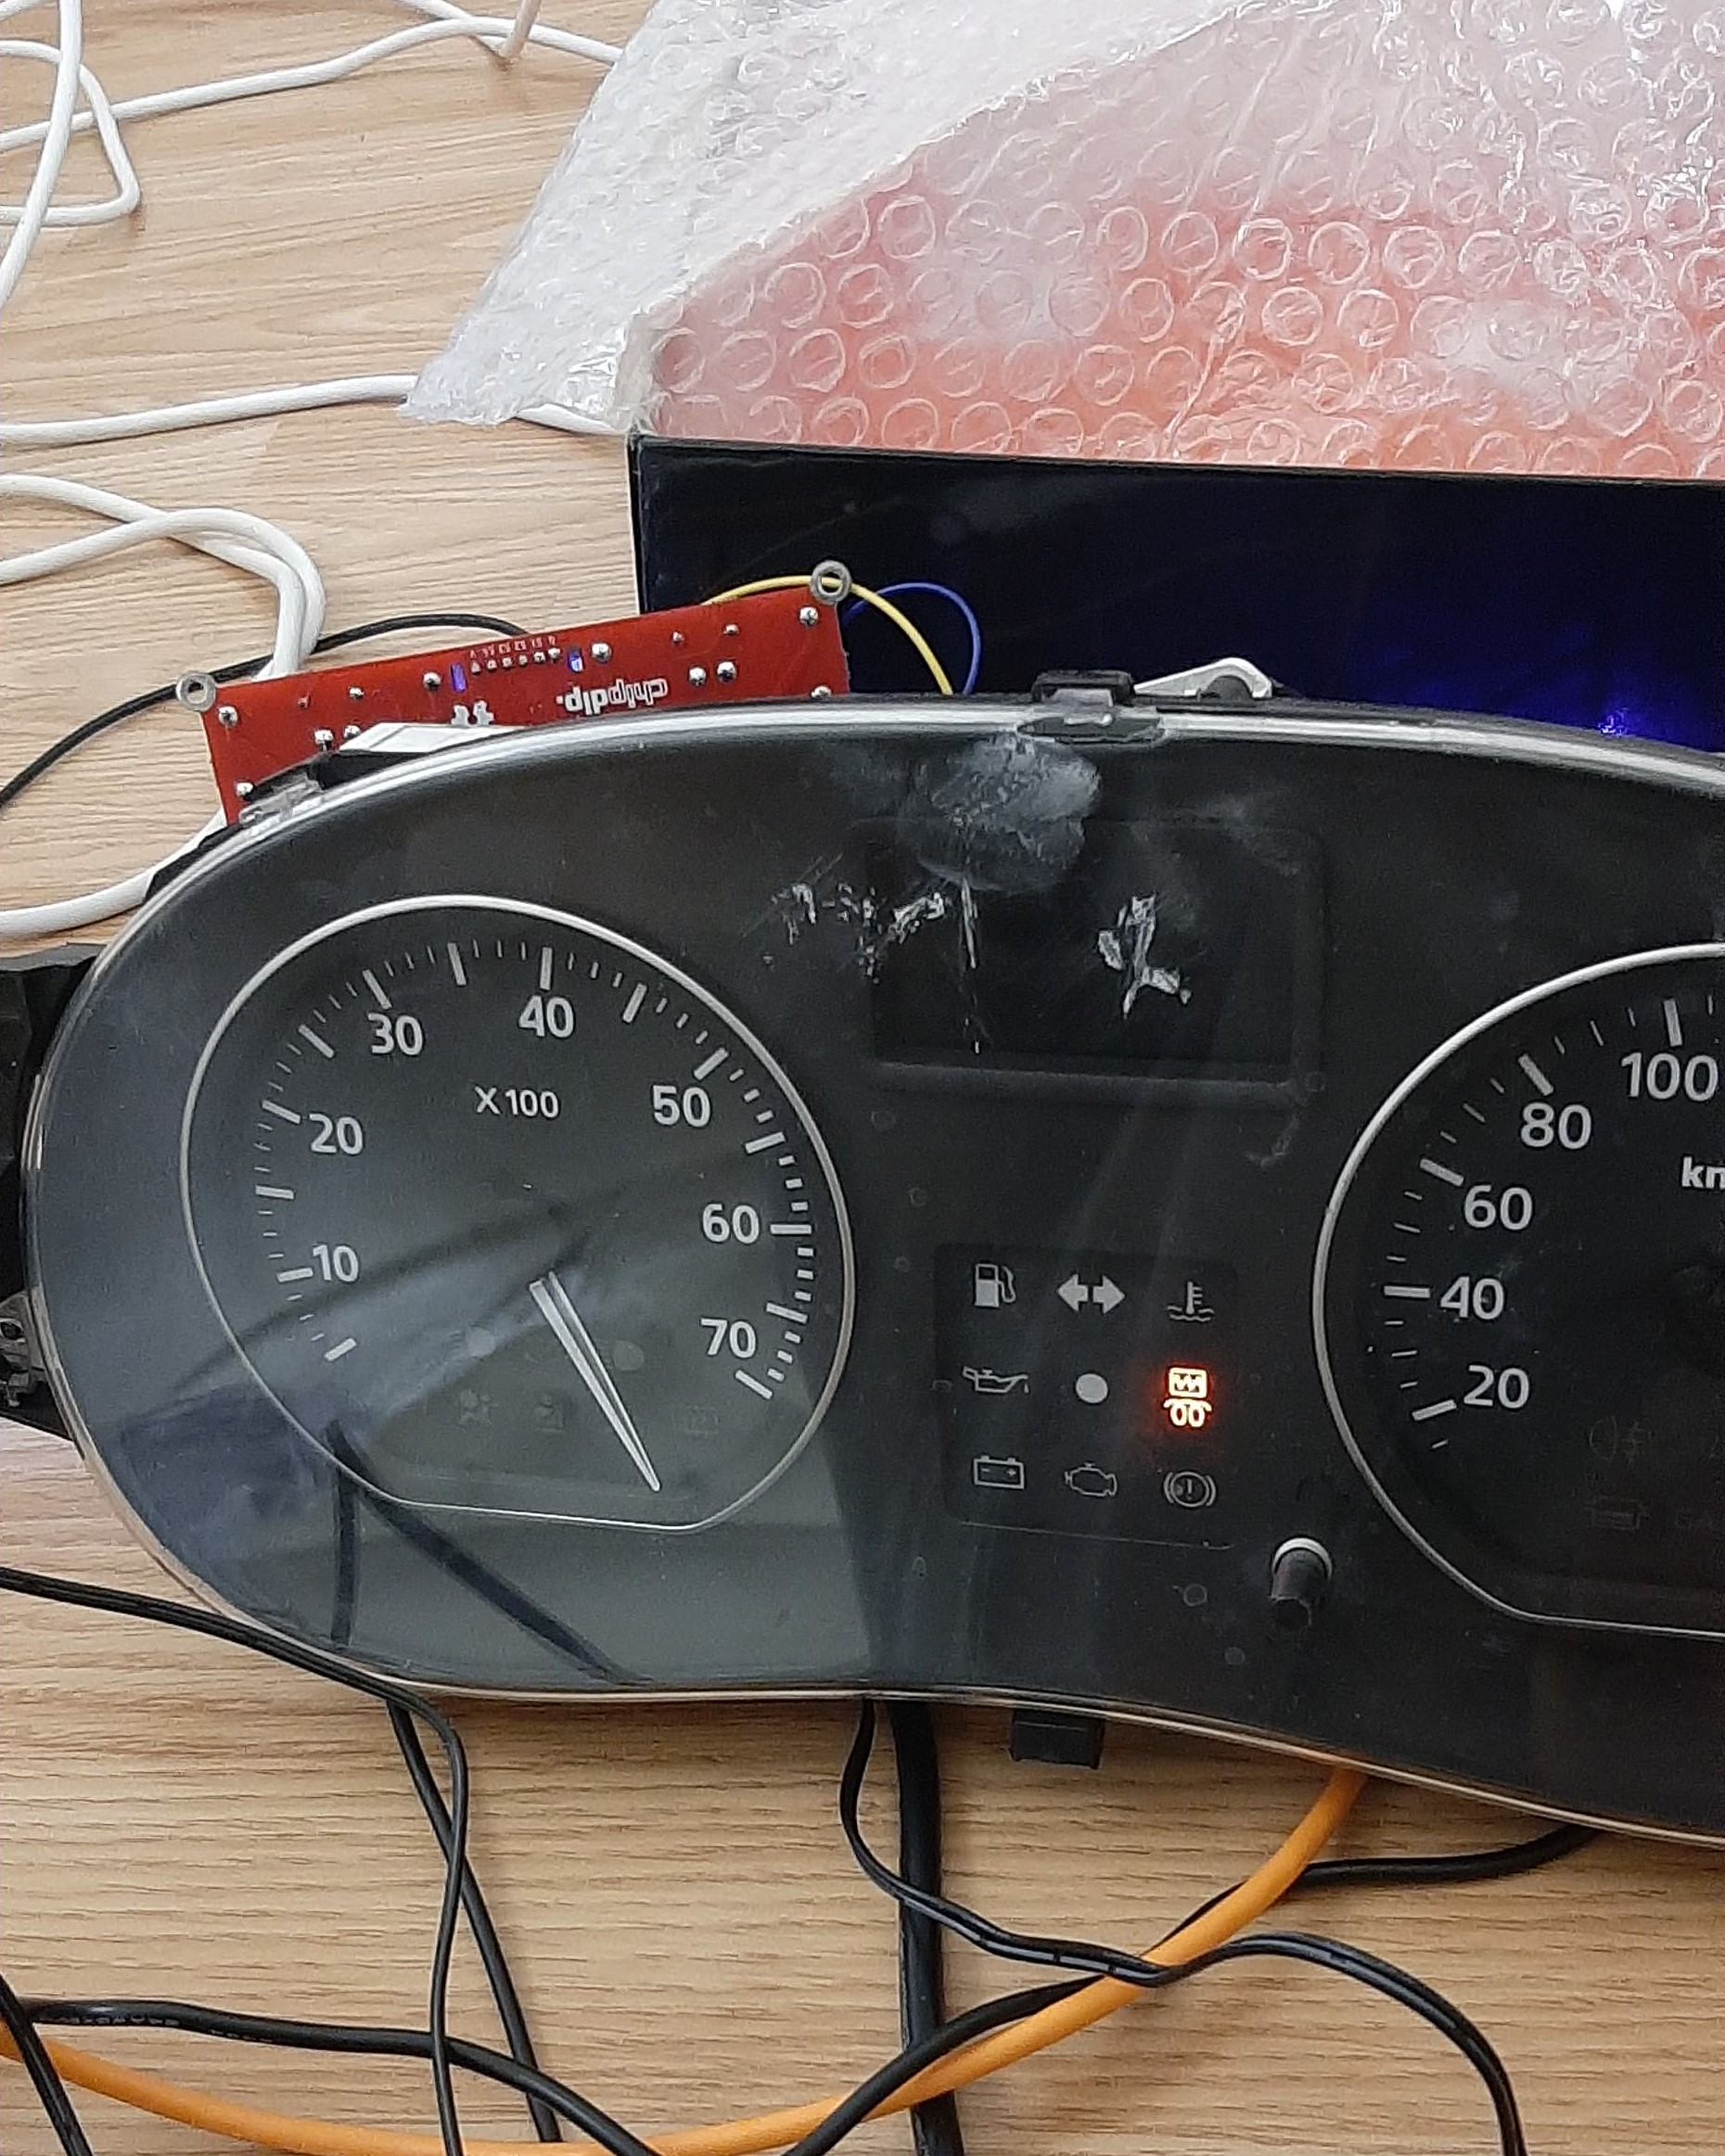diesel20: (1160, 1362, 1215, 1429)
